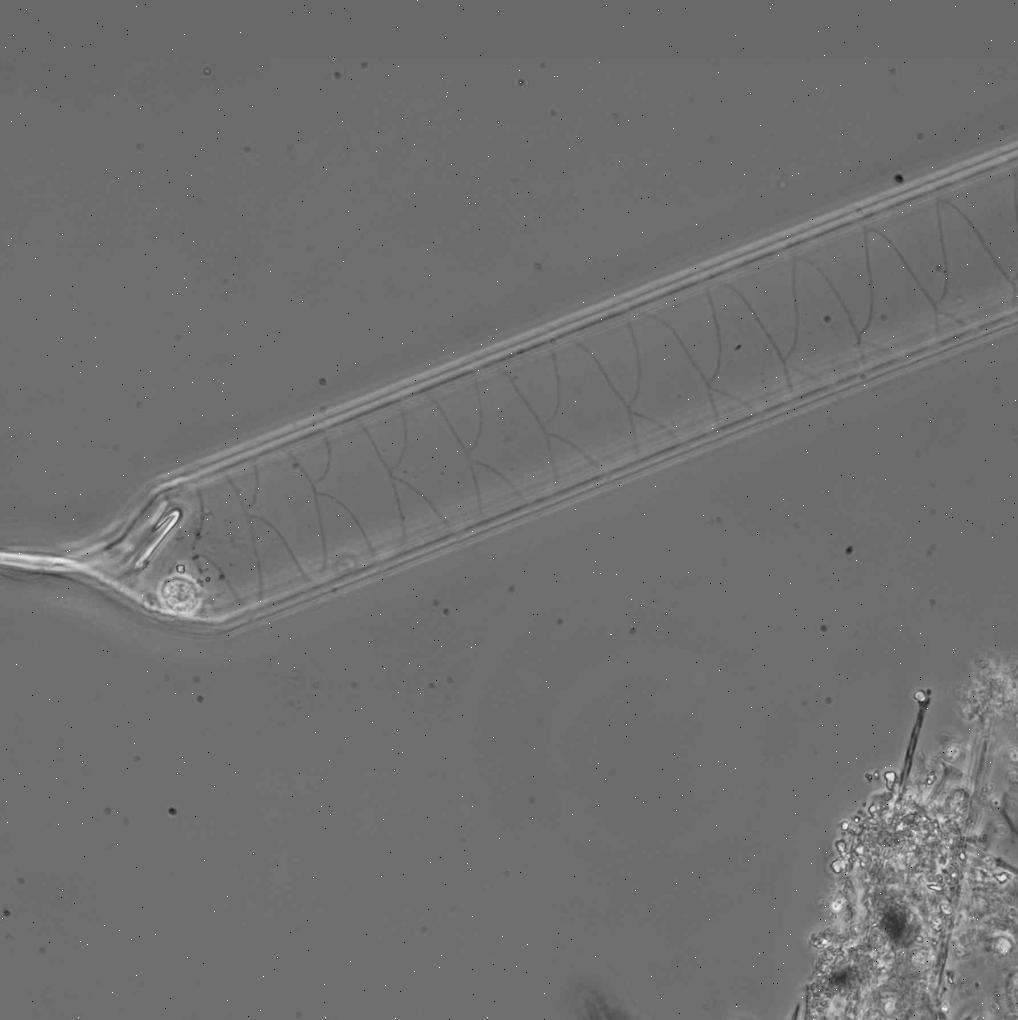proboscia_alata: (0, 142, 1018, 640)
